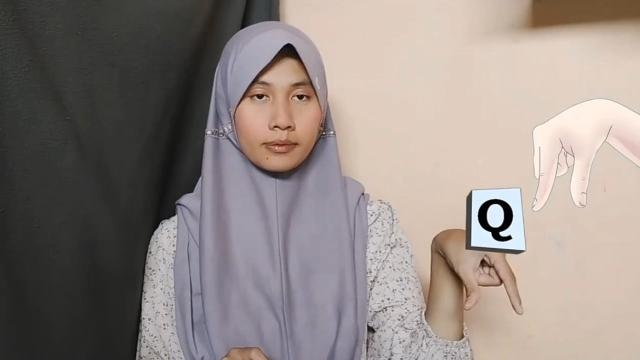Q: (431, 226, 529, 320)
